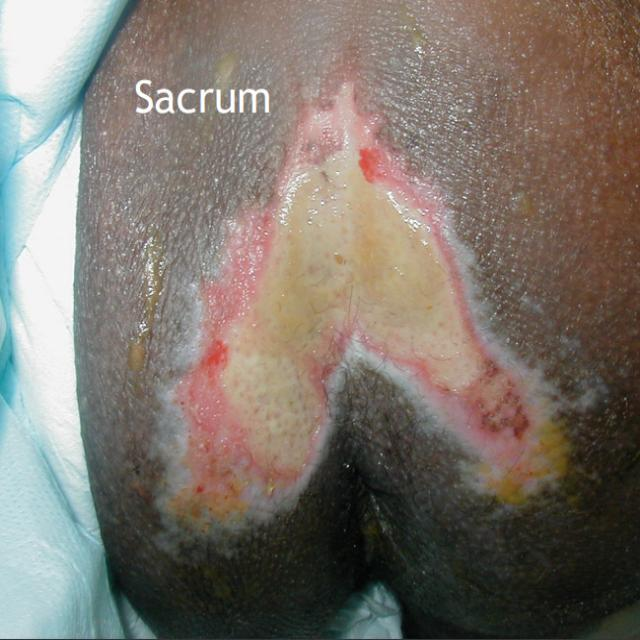Unstageable: (189, 111, 531, 491)
